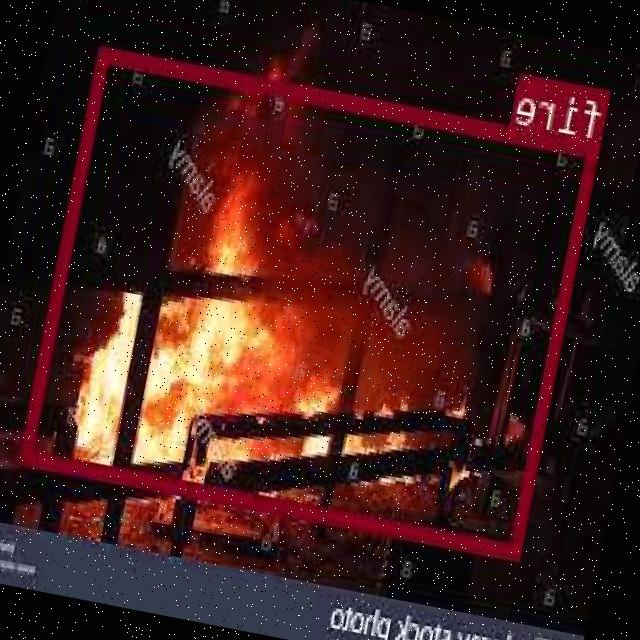fire: (21, 46, 602, 558)
